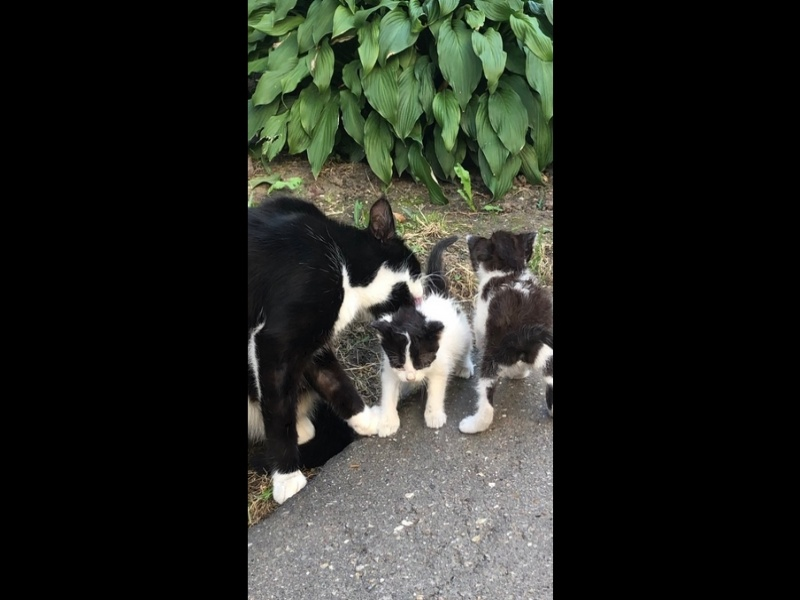cat: (247, 184, 421, 508), (375, 216, 474, 442), (466, 229, 554, 440)
